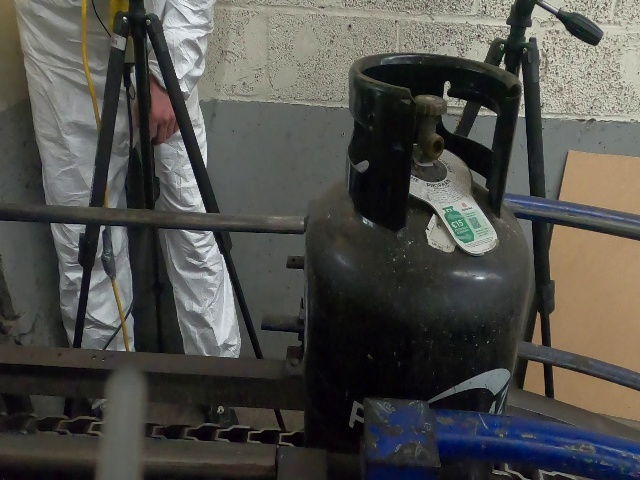gas_bottle: (0, 5, 637, 473)
